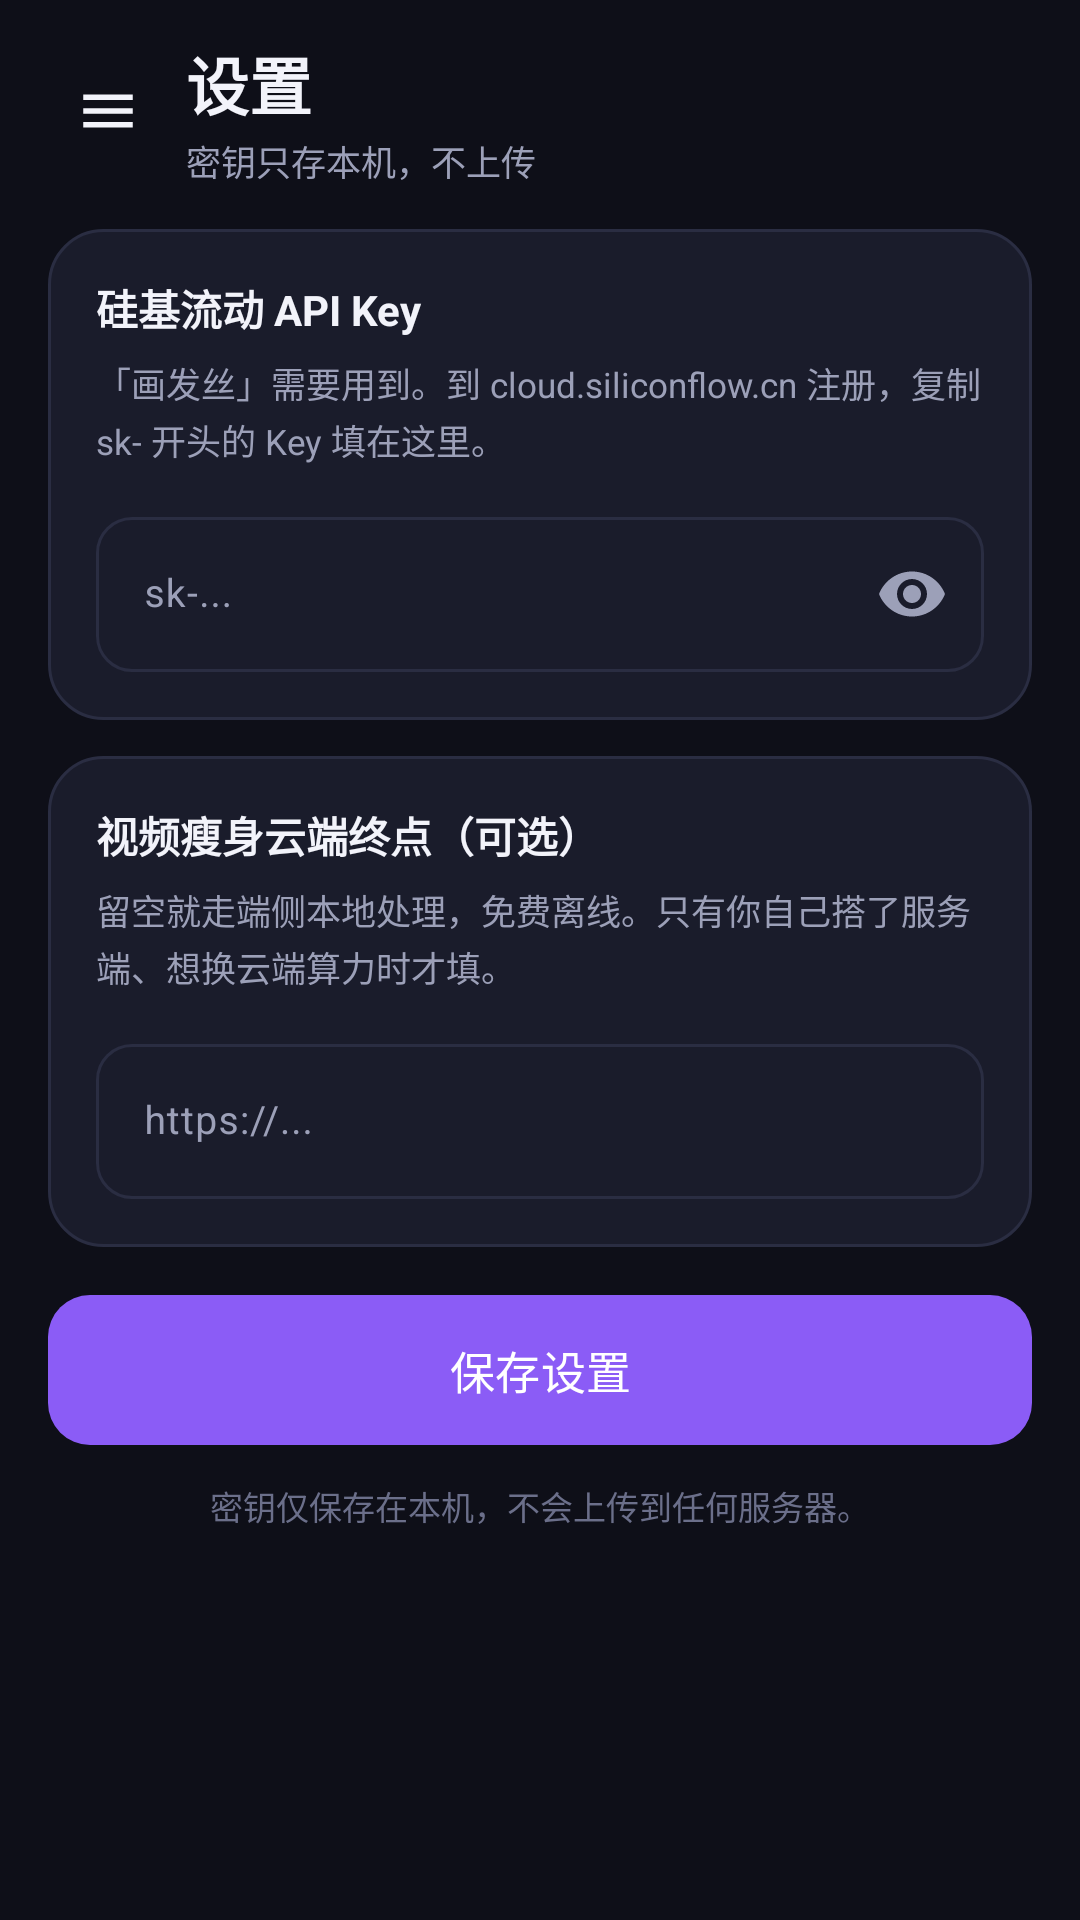

Where to tap for icons on this 1080w x 1920h app screen, as point (x, y):
菜单: point (108, 111)
